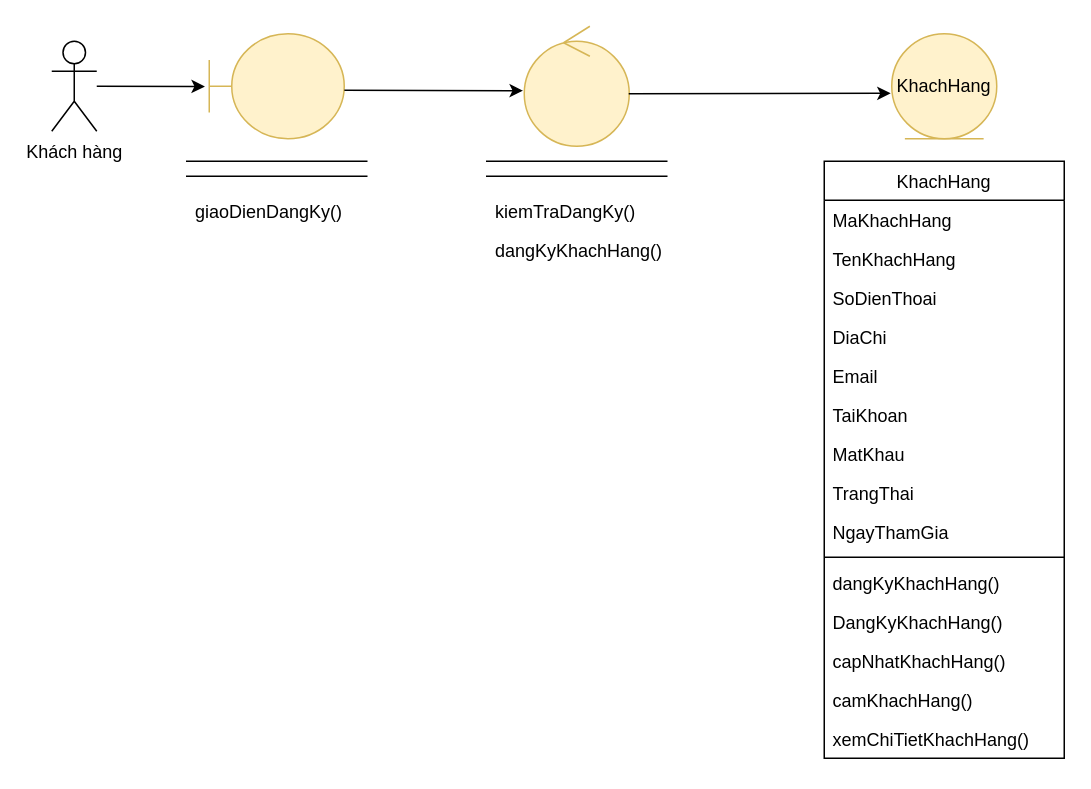
The diagram is 1091 pixels wide and 789 high, and some of its shapes have lost their labels. Each missing label, with the box of its shape:
DangKy: (523, 25, 629, 146)
DangKyUI: (208, 32, 344, 139)
